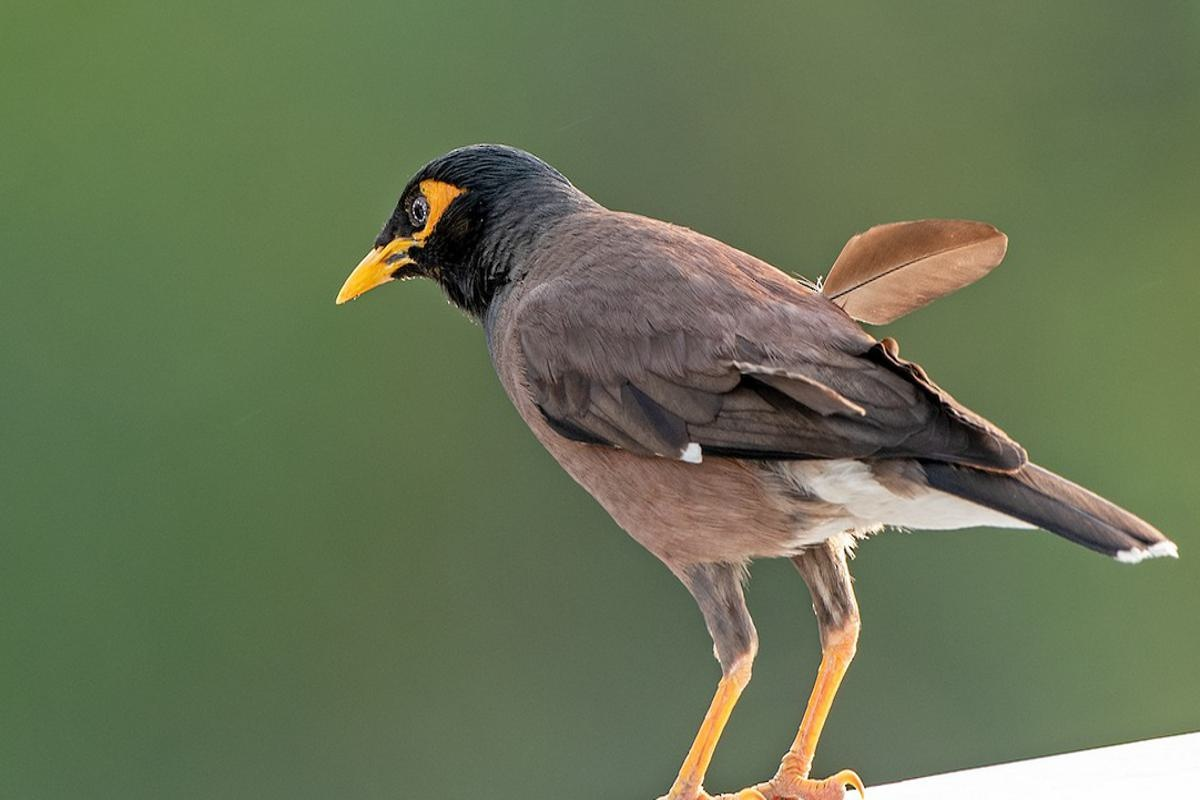myna: (279, 127, 1058, 787)
